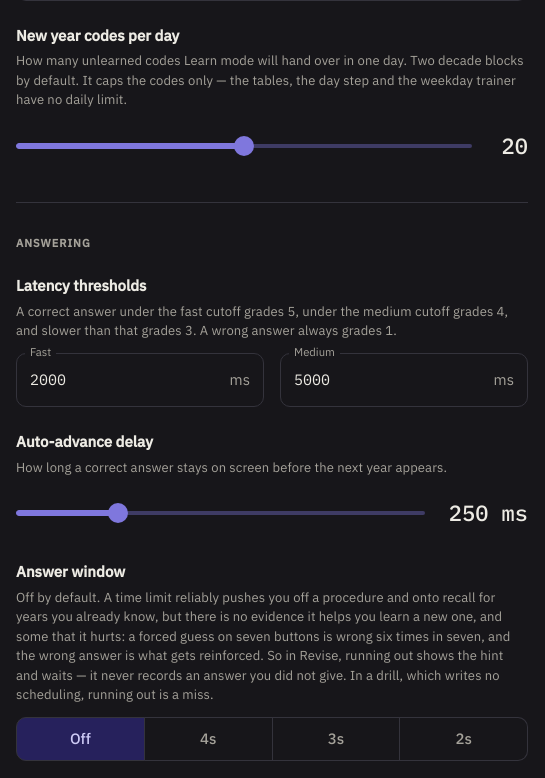
Test: Latency thresholds › pushes the medium cutoff up when fast passes it
The width and height of the screenshot is (545, 778).
(page scrolled)
Replace the text in the field labelled "Fast" with "6000" at (119, 380), box x1=16 y1=352 x2=222 y2=407
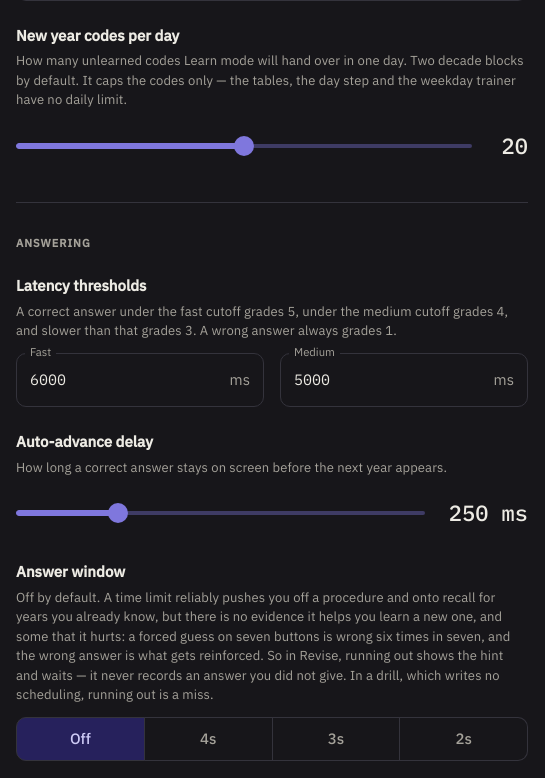
Leave the field labelled "Fast", box x1=16 y1=352 x2=222 y2=407
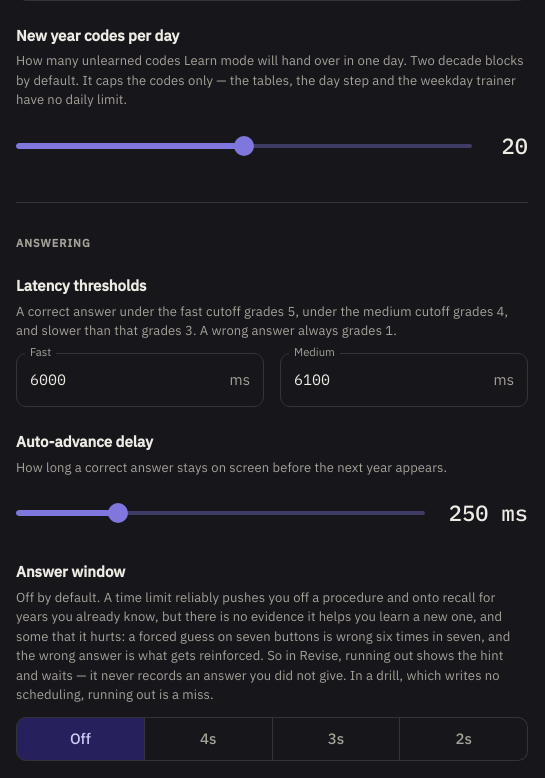
Check: the field labelled "Medium" holds "6100", box x1=280 y1=352 x2=486 y2=407
